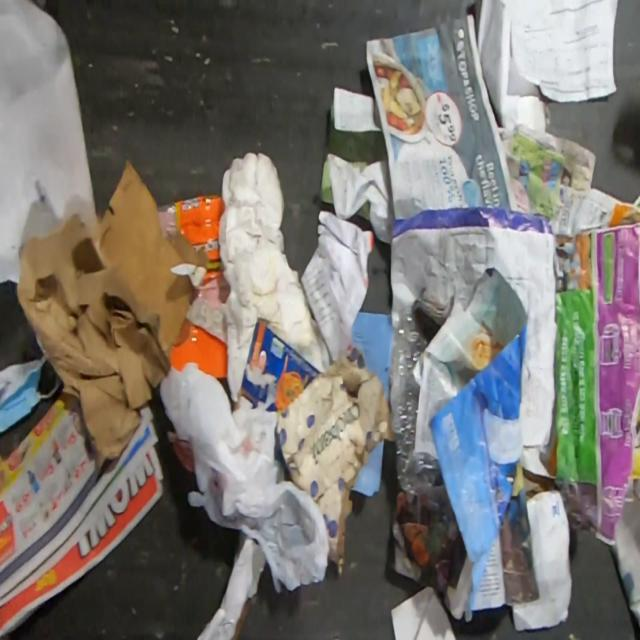cardboard: (15, 155, 212, 470), (274, 351, 394, 578)
rigid_plastic: (388, 304, 443, 497)
soft_plastic: (160, 360, 332, 595)
